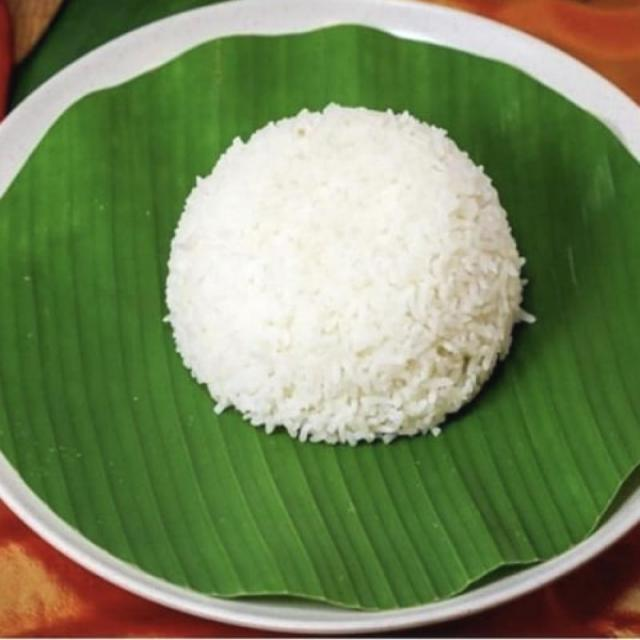rice: (165, 102, 524, 444)
